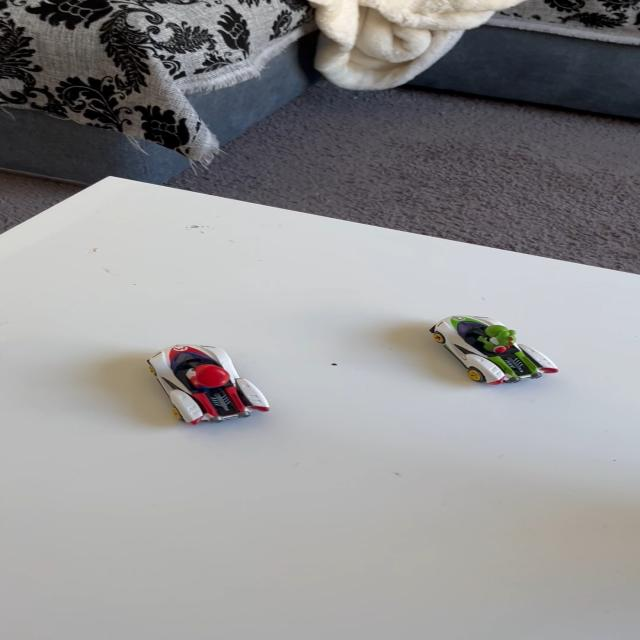mario: (126, 336, 289, 440)
yoshi: (414, 310, 564, 396)
